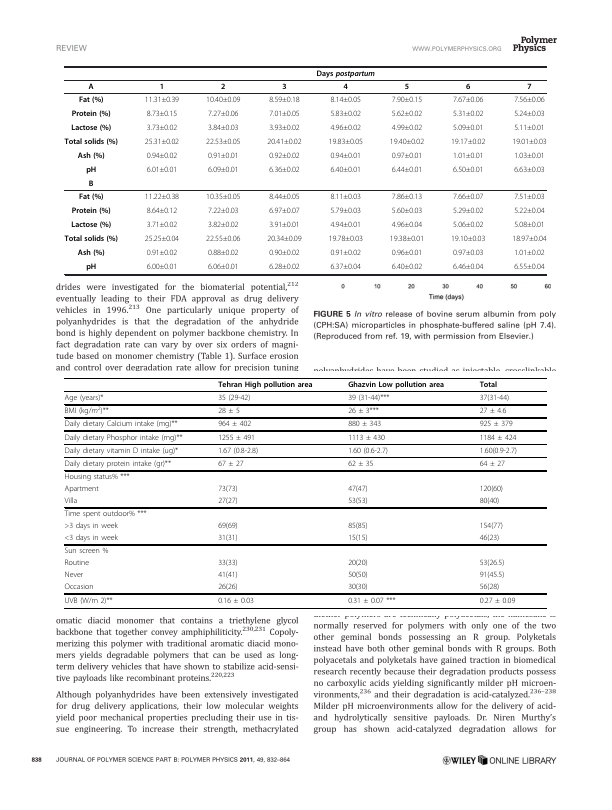borderless: (63, 376, 547, 608), (64, 65, 546, 274)
cell: (64, 433, 184, 442), (64, 459, 172, 469), (64, 420, 179, 429), (64, 446, 179, 455), (347, 380, 445, 389), (217, 380, 313, 389), (64, 510, 147, 519), (64, 472, 130, 482), (64, 533, 119, 543), (64, 137, 119, 147), (64, 234, 119, 244), (316, 69, 376, 78), (63, 405, 110, 416), (64, 522, 119, 531), (64, 596, 113, 605), (347, 596, 396, 605), (347, 393, 390, 403), (70, 123, 112, 133), (70, 220, 112, 230), (63, 393, 104, 403), (64, 547, 109, 556), (71, 109, 111, 119), (71, 206, 111, 216), (217, 446, 259, 455), (347, 446, 389, 455), (64, 484, 100, 494), (217, 433, 256, 442), (347, 433, 386, 442), (479, 446, 518, 455), (479, 433, 517, 442), (217, 596, 255, 605), (217, 393, 251, 403), (479, 596, 516, 605), (347, 406, 380, 416), (217, 420, 252, 429), (347, 420, 382, 429), (479, 420, 514, 429), (479, 393, 510, 403), (479, 406, 507, 416), (77, 151, 105, 161), (77, 248, 105, 258), (217, 459, 244, 469), (347, 459, 374, 469), (479, 459, 506, 469), (64, 583, 94, 592), (78, 95, 104, 105), (78, 192, 104, 202), (144, 96, 180, 103), (205, 96, 241, 103), (144, 138, 180, 145), (205, 138, 241, 145), (266, 138, 302, 145), (328, 138, 364, 145), (389, 138, 425, 145), (450, 138, 486, 145), (511, 138, 547, 145), (144, 193, 180, 200), (205, 193, 241, 200), (144, 235, 180, 242), (205, 235, 241, 242), (266, 235, 302, 242), (328, 235, 364, 242), (389, 235, 425, 242), (450, 235, 486, 242), (511, 235, 547, 242), (479, 484, 504, 494), (217, 406, 241, 416), (64, 559, 90, 568), (479, 559, 505, 568), (479, 571, 505, 580), (268, 96, 301, 103), (329, 96, 362, 103), (513, 96, 546, 103), (268, 110, 301, 117), (329, 110, 362, 117), (513, 110, 546, 117), (268, 124, 301, 131), (329, 124, 362, 131), (513, 124, 546, 131), (268, 152, 301, 159), (329, 152, 362, 159), (513, 152, 546, 159), (268, 166, 301, 173), (329, 166, 362, 173), (513, 166, 546, 173), (268, 193, 301, 200), (329, 193, 362, 200), (513, 193, 546, 200), (268, 207, 301, 214), (329, 207, 362, 214), (513, 207, 546, 214), (268, 221, 301, 228), (329, 221, 362, 228), (513, 221, 546, 228), (268, 249, 301, 256), (329, 249, 362, 256), (513, 249, 546, 256), (268, 263, 301, 270), (329, 263, 362, 270), (513, 263, 546, 270), (479, 522, 504, 531), (391, 96, 423, 103), (452, 96, 484, 103), (146, 110, 178, 117), (207, 110, 239, 117), (391, 110, 423, 117), (452, 110, 484, 117), (146, 124, 178, 131), (207, 124, 239, 131), (391, 124, 423, 131), (452, 124, 484, 131), (146, 152, 178, 159), (207, 152, 239, 159), (391, 152, 423, 159), (452, 152, 484, 159), (146, 166, 178, 173), (207, 166, 239, 173), (391, 166, 423, 173), (452, 166, 484, 173), (391, 193, 423, 200), (452, 193, 484, 200), (146, 207, 178, 214), (207, 207, 239, 214), (391, 207, 423, 214), (452, 207, 484, 214), (146, 221, 178, 228), (207, 221, 239, 228), (391, 221, 423, 228), (452, 221, 484, 228), (146, 249, 178, 256), (207, 249, 239, 256), (391, 249, 423, 256), (452, 249, 484, 256), (146, 263, 178, 270), (207, 263, 239, 270), (391, 263, 423, 270), (452, 263, 484, 270), (217, 484, 239, 494), (217, 496, 239, 506), (217, 533, 239, 543), (347, 484, 368, 494), (347, 496, 368, 506), (479, 496, 500, 506), (347, 533, 368, 543), (479, 533, 500, 543), (217, 522, 239, 531), (217, 559, 239, 568), (217, 571, 239, 580), (217, 583, 239, 592), (347, 522, 368, 531), (347, 559, 368, 568), (347, 571, 368, 580), (347, 583, 368, 592), (479, 583, 500, 592), (64, 571, 84, 580), (479, 380, 498, 389), (64, 496, 78, 506), (85, 165, 97, 175), (85, 262, 97, 272), (88, 82, 95, 92), (342, 82, 349, 92), (159, 82, 165, 92), (220, 82, 226, 92), (281, 82, 287, 92), (404, 82, 410, 92), (465, 82, 471, 92), (526, 82, 532, 92), (88, 179, 94, 189)
